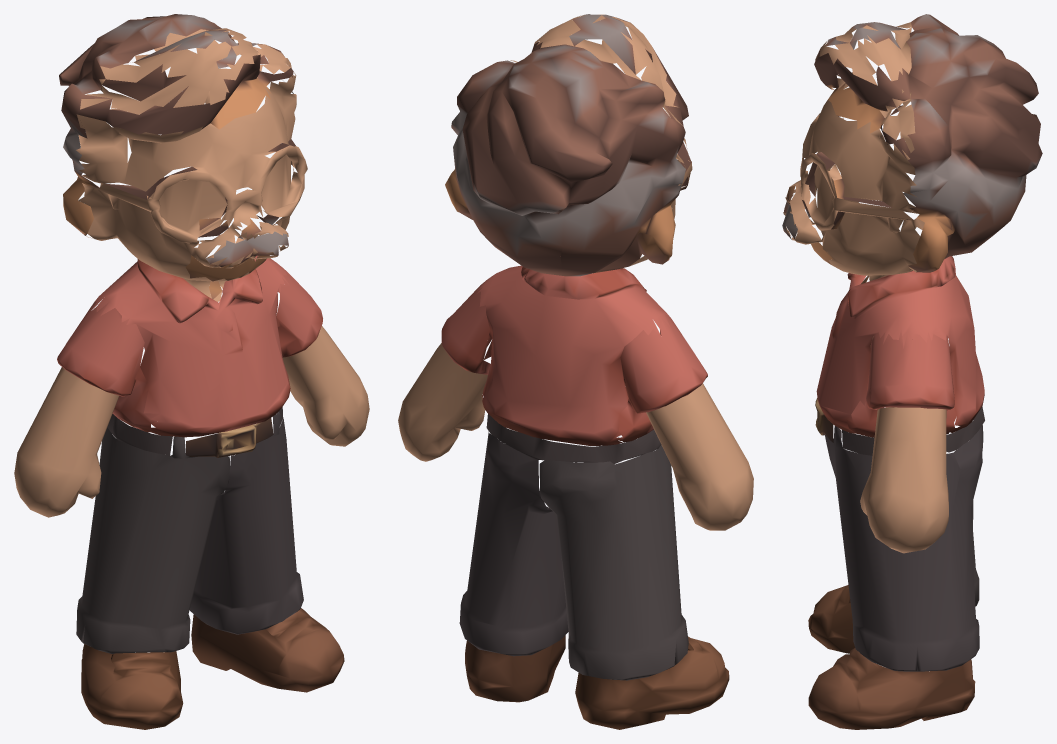
The picture shows the model from 3 angles, left to right: view 1: azimuth 30°, elevation 25°; view 2: azimuth 150°, elevation 25°; view 3: azimuth 270°, elevation 25°; orthographic projection.
Visible parts, largest first — view 1: bottom, head, top, hair, hand_r, shoe_l, shoe_r, sleeve_r, hand_l, sleeve_l; view 2: hair, bottom, top, hand_r, shoe_r, hand_l, sleeve_r, shoe_l, head, sleeve_l; view 3: hair, bottom, head, top, hand_l, shoe_l, sleeve_l, shoe_r.
Boxes of the visible parts, x1,y1,x2,y2 form: bottom: (76, 411, 303, 653); head: (76, 28, 307, 301); top: (91, 235, 289, 457); hair: (59, 14, 295, 299); hand_r: (14, 367, 119, 517); shoe_l: (191, 608, 344, 692); shoe_r: (81, 644, 183, 729); sleeve_r: (57, 302, 160, 432); hand_l: (282, 326, 369, 446); sleeve_l: (276, 266, 322, 395); hair: (445, 14, 691, 276); bottom: (459, 431, 688, 680); top: (476, 265, 670, 464); hand_r: (646, 383, 753, 530); shoe_r: (575, 636, 729, 729); hand_l: (398, 343, 487, 461); sleeve_r: (618, 314, 707, 442); shoe_l: (465, 635, 565, 702); head: (510, 14, 692, 265); sleeve_l: (441, 281, 490, 398); hair: (782, 14, 1042, 283); bottom: (825, 425, 983, 671); head: (783, 22, 924, 283); top: (815, 256, 984, 455); hand_l: (860, 407, 948, 553); shoe_l: (808, 647, 975, 729); sleeve_l: (847, 329, 958, 437); shoe_r: (808, 585, 854, 653).
Size of the model in its own units: 0.5579 by 1.03 by 0.3746.
